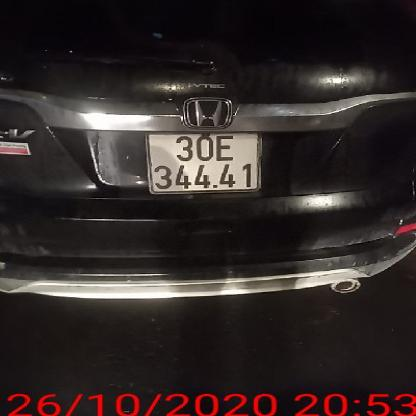biensoxe: (139, 123, 281, 196)
